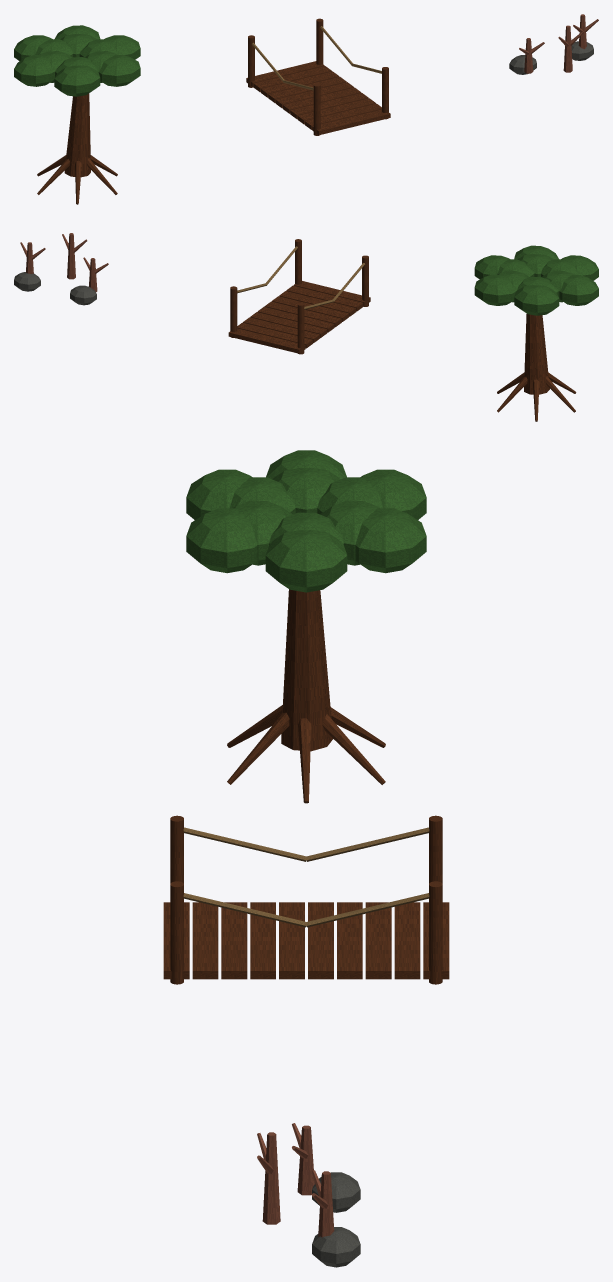
File: KIT_mangrove_route.gltf
3 views of the same model, one above another, from view 1: azimuth 30°, elevation 25°; view 2: azimuth 150°, elevation 25°; view 3: azimuth 270°, elevation 25° (orthographic). The views are drawn at different scales.
Parts seen in each view (by area): view 1: 01_mangrove, 02_bridge, 03_reef; view 2: 01_mangrove, 02_bridge, 03_reef; view 3: 01_mangrove, 02_bridge, 03_reef.
Part boxes in pixels (x1,y1,x2,y2): 01_mangrove: [14, 25, 140, 204]; 02_bridge: [246, 18, 390, 135]; 03_reef: [509, 14, 598, 74]; 01_mangrove: [474, 245, 598, 421]; 02_bridge: [228, 239, 370, 354]; 03_reef: [14, 233, 108, 305]; 01_mangrove: [186, 450, 426, 803]; 02_bridge: [163, 815, 449, 984]; 03_reef: [257, 1123, 360, 1267].
Size of the model in its own units: 13.31 by 3.08 by 2.87.
Materials: 5 (5 with a texture image).
